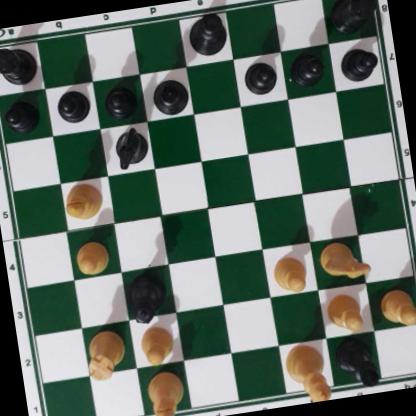black-bishop: (332, 335, 381, 392), (148, 75, 191, 118)
black-king: (183, 10, 229, 58)
black-knight: (109, 125, 152, 171)
black-pawn: (338, 43, 379, 84), (288, 49, 327, 87), (2, 95, 39, 133), (242, 57, 278, 96), (54, 87, 90, 125), (102, 81, 137, 120)
black-queen: (123, 268, 170, 328)
black-rook: (0, 39, 39, 89), (328, 0, 381, 34)
white-bishop: (145, 368, 190, 416), (61, 180, 104, 222)
white-king: (283, 341, 335, 406)
white-knight: (315, 236, 373, 284)
white-pawn: (323, 290, 366, 335), (136, 323, 177, 368), (72, 237, 113, 279), (377, 286, 416, 327), (270, 252, 308, 294)
white-rook: (81, 326, 131, 383)
